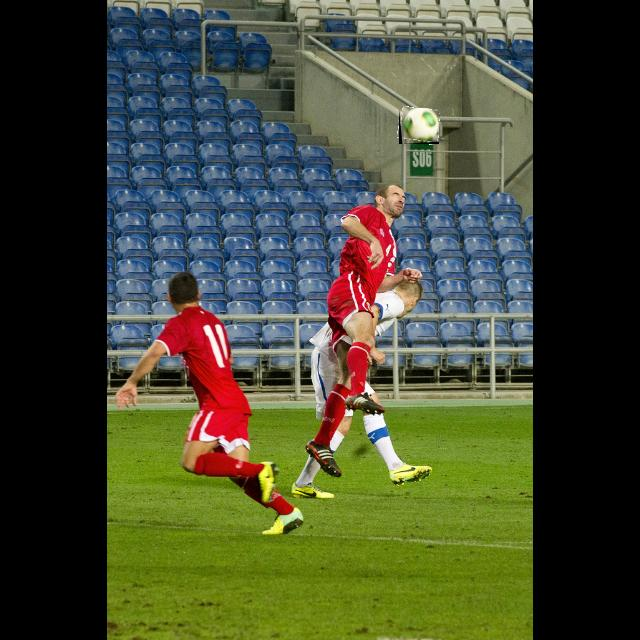Football: (399, 108, 439, 144)
